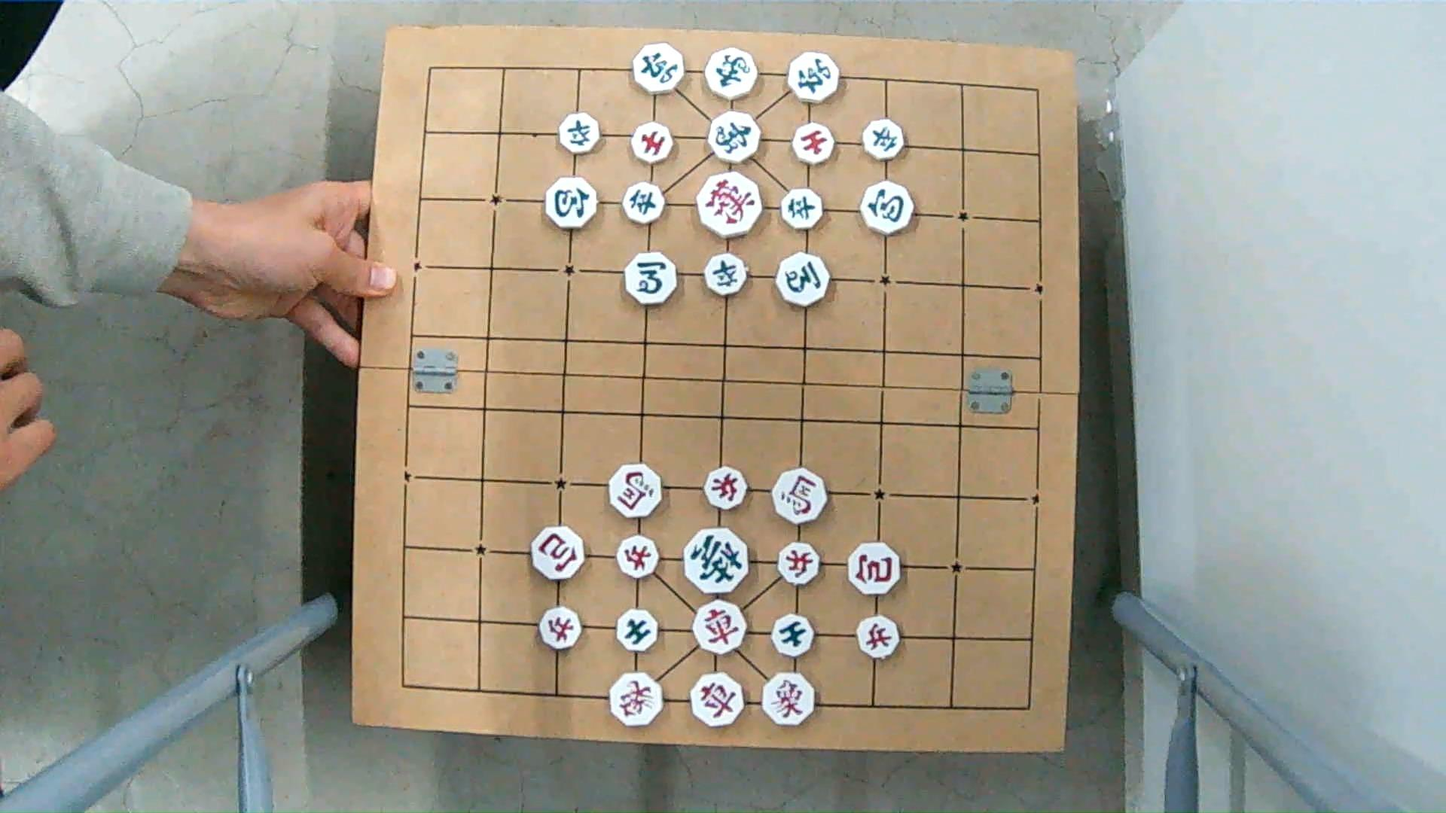cha_green: (632, 42, 684, 94), (786, 53, 843, 100)
cha_red: (688, 675, 749, 726), (690, 604, 751, 653)
jol_green: (779, 186, 822, 230), (621, 184, 670, 222), (703, 256, 749, 294), (860, 121, 907, 158), (556, 115, 601, 153)
jol_red: (778, 540, 824, 583), (538, 610, 587, 649), (703, 470, 752, 509), (853, 617, 902, 655), (618, 537, 657, 577)
ma_green: (773, 256, 833, 304), (621, 254, 679, 302)
ma_red: (770, 465, 828, 522), (604, 467, 664, 516)
po_green: (859, 184, 917, 233), (544, 181, 601, 230)
po_red: (529, 528, 588, 577), (846, 547, 902, 596)
sa_green: (769, 617, 817, 657), (612, 611, 660, 650)
sa_red: (792, 124, 839, 162), (633, 123, 673, 166)
sang_green: (705, 113, 764, 160), (703, 50, 760, 97)
sang_red: (758, 676, 819, 725), (606, 677, 666, 726)
wang_green: (682, 534, 754, 594)
wang_red: (695, 174, 767, 236)
